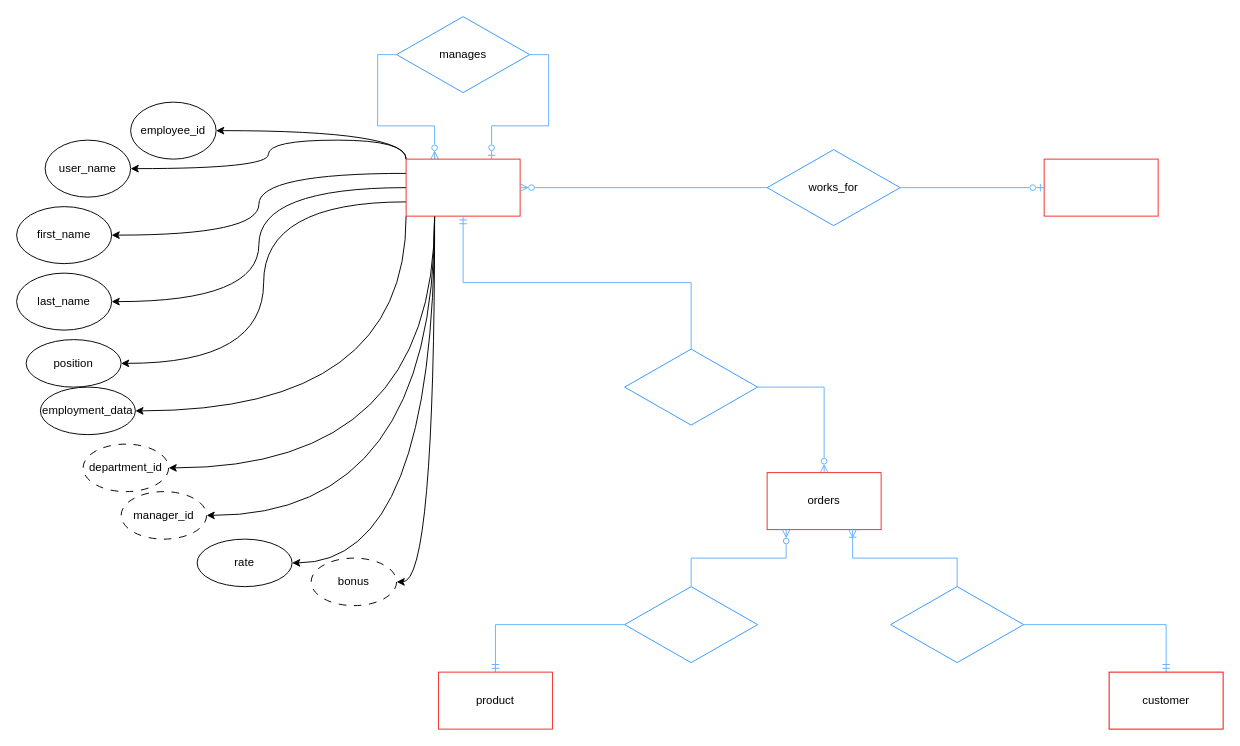
Image size: 1240x746. Some labels were removed from this diagram. The shapes that lost their labels are listed below. From the top down, each one's centre as x and y in pixels, then its label:
At (x=462, y=187): "employee".
At (x=1100, y=187): "departament".
At (x=691, y=386): "places".
At (x=691, y=624): "sells".
At (x=957, y=624): "buys".
